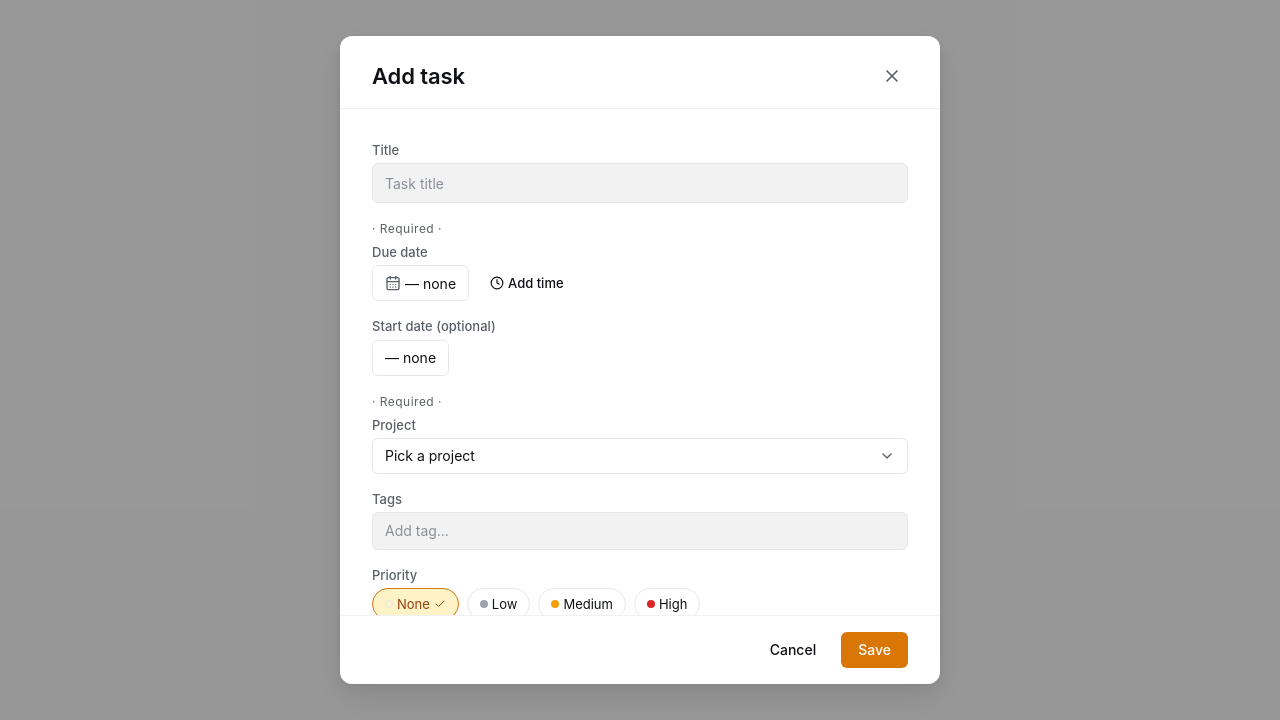
it: TaskModal — dirty state and Esc guard › pressing Esc on a dirty modal shows unsaved-changes guard "Discard changes?"
Expected: the dialog is shown, [340,36,940,684]
Make the form dirty by typing in the title field
Type "Draft task" into the field labelled "Title" at [640, 183], box [372,163,908,203]
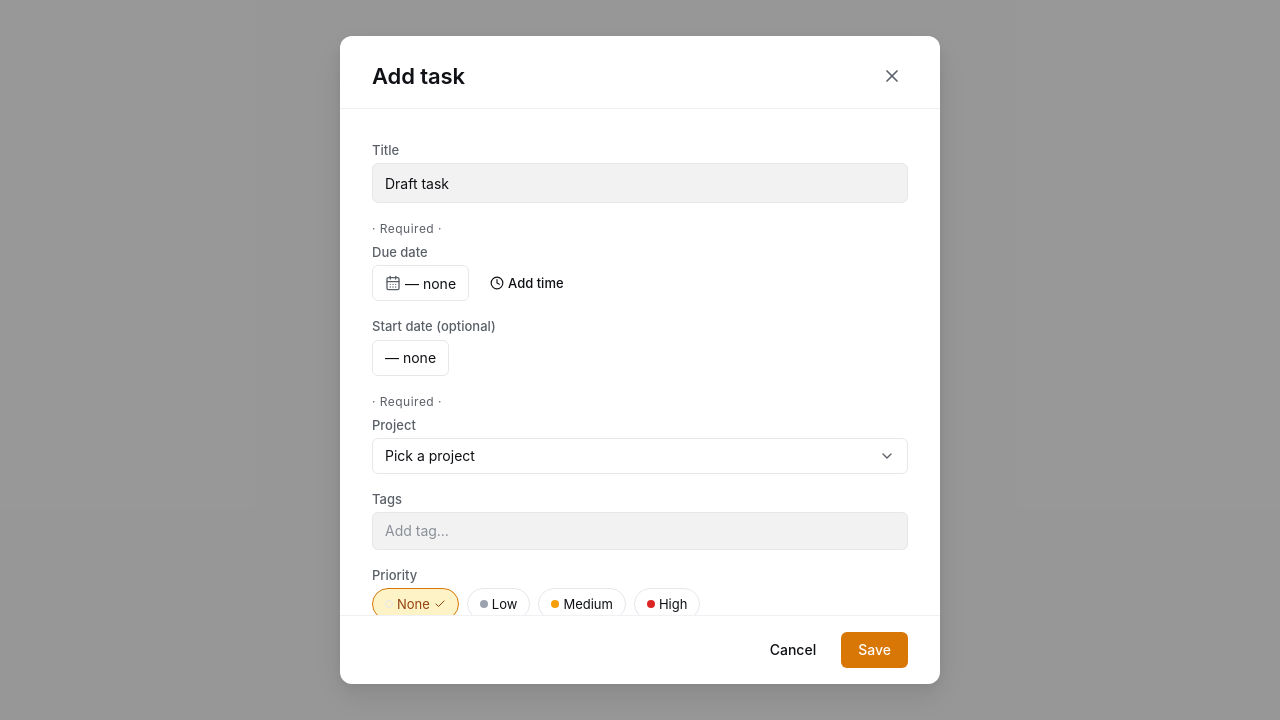
Press Esc
Press Escape in the dialog, box [340,36,940,684]
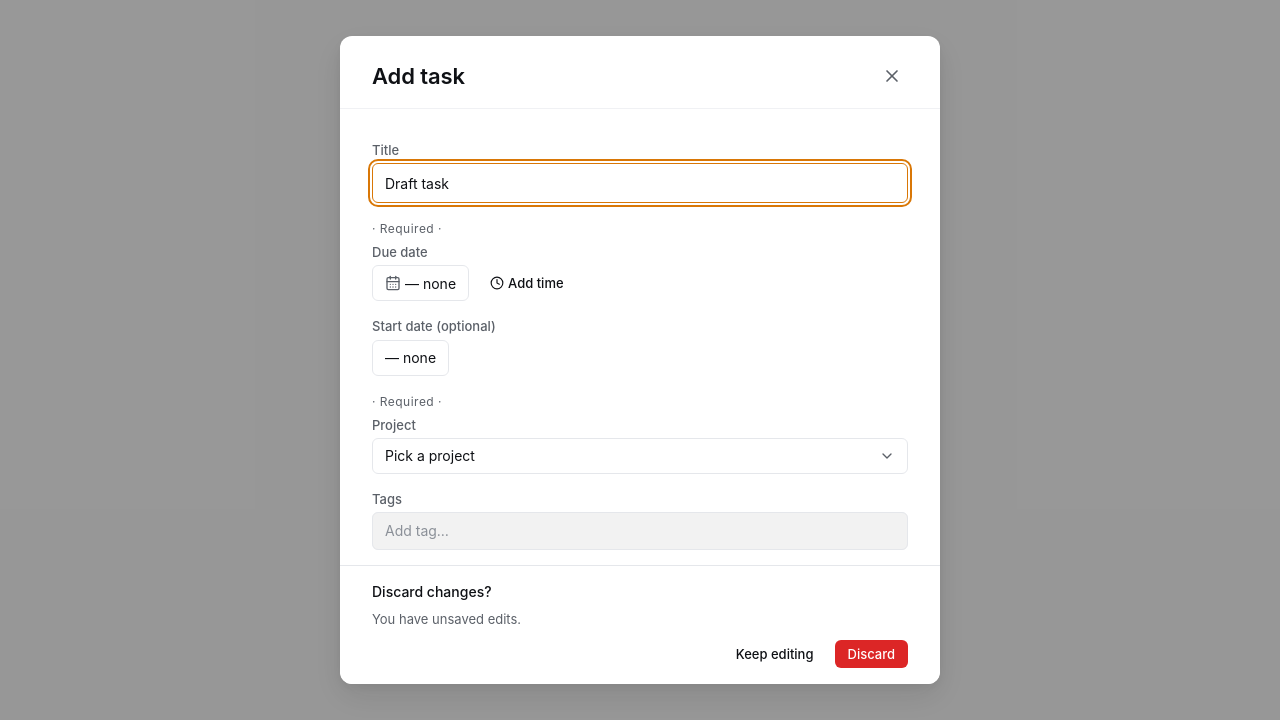
Now the text "Discard changes?" is shown, box [372,583,492,600]
